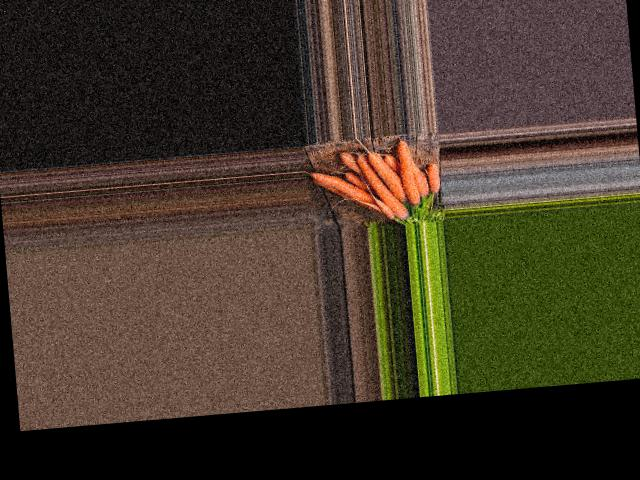carrot: (313, 164, 374, 207)
